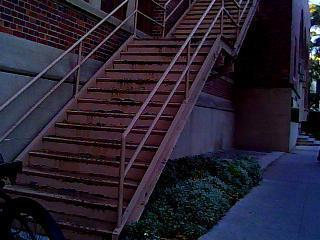Escaleras: (4, 39, 219, 223), (158, 0, 244, 40)
